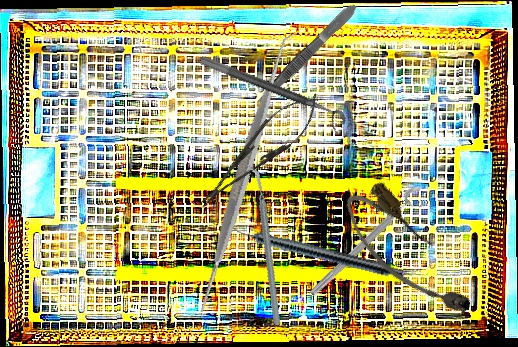Cannula: (333, 174, 483, 336)
Chopper: (207, 165, 322, 327)
Fixation Ring: (305, 182, 433, 306), (194, 54, 349, 136)
Handpiece: (226, 220, 405, 281)
Needle Holder: (186, 81, 332, 221)
Spatula Surgical: (102, 31, 386, 318)
Tissue Forceps: (251, 1, 361, 107)
